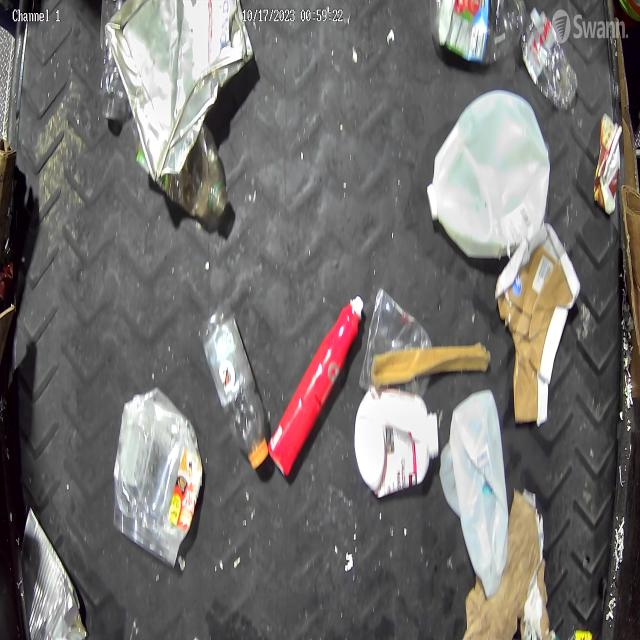milk_jug: (428, 87, 552, 257), (442, 388, 512, 595)
non_white_jug: (354, 387, 441, 498)
plastic_bottle: (201, 306, 269, 468), (519, 8, 579, 114), (434, 0, 528, 65)
